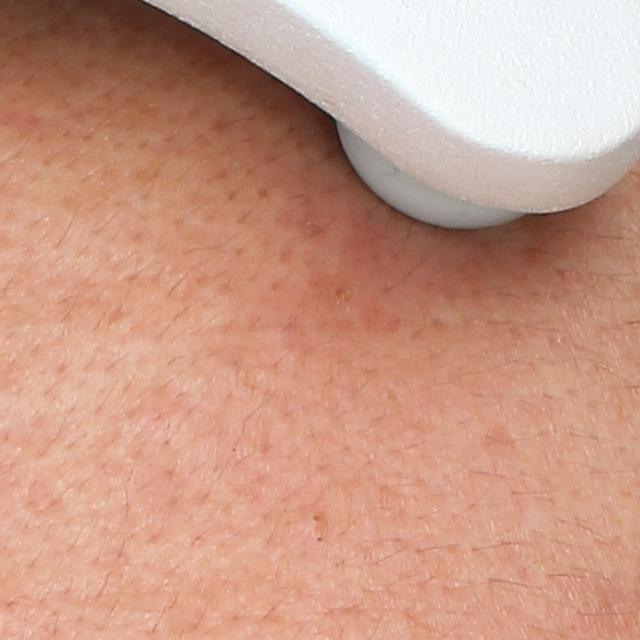atrophic_scar: (476, 420, 523, 460)
comedo: (306, 510, 328, 529)
